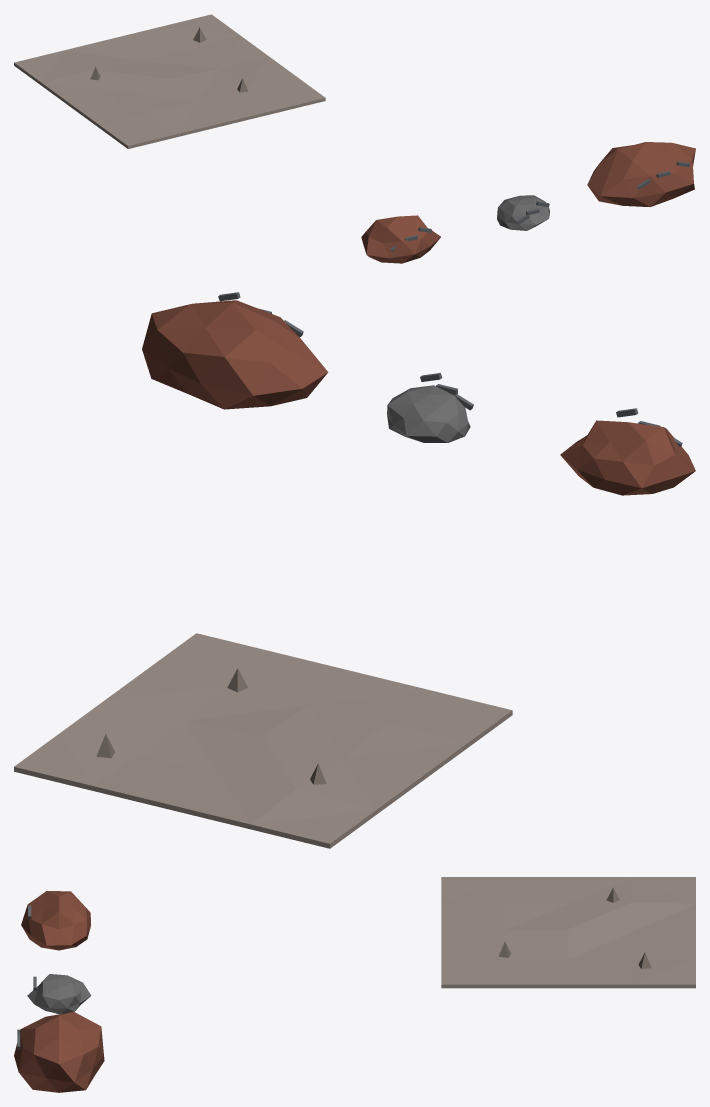
Rendered from kit_bukit_v001.glb.
3 renders of one model, top to bottom at view 1: azimuth 30°, elevation 25°; view 2: azimuth 150°, elevation 25°; view 3: azimuth 270°, elevation 25°, orthographic. The views are drawn at different scales.
Parts seen in each view (by area): view 1: lantai_bukit, Batu_Besi_C, Batu_Besi_A, Batu_Besi_B; view 2: lantai_bukit, Batu_Besi_C, Batu_Besi_A, Batu_Besi_B; view 3: lantai_bukit, Batu_Besi_C, Batu_Besi_A, Batu_Besi_B.
Part boxes in pixels (left/top/right/bottom): lantai_bukit: left=14, top=14, right=325, bottom=148; Batu_Besi_C: left=587, top=142, right=695, bottom=206; Batu_Besi_A: left=361, top=215, right=440, bottom=263; Batu_Besi_B: left=497, top=195, right=549, bottom=230; lantai_bukit: left=14, top=633, right=512, bottom=848; Batu_Besi_C: left=142, top=292, right=328, bottom=409; Batu_Besi_A: left=560, top=408, right=695, bottom=495; Batu_Besi_B: left=387, top=373, right=473, bottom=442; lantai_bukit: left=441, top=877, right=695, bottom=988; Batu_Besi_C: left=14, top=1012, right=104, bottom=1092; Batu_Besi_A: left=21, top=891, right=90, bottom=950; Batu_Besi_B: left=27, top=974, right=91, bottom=1013.
Size of the model in its own units: 8.03 by 0.9286 by 10.71.
